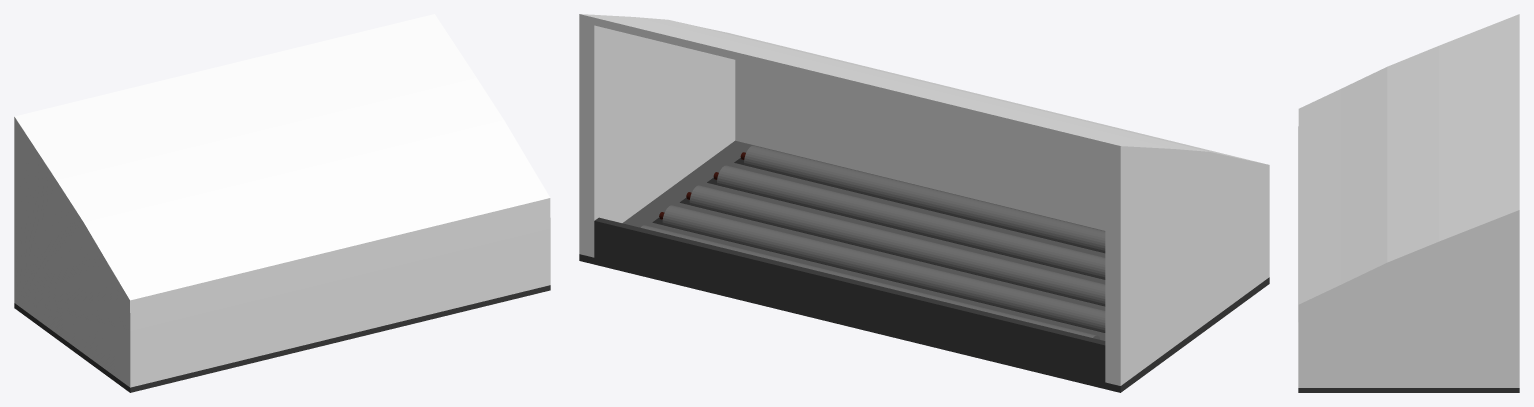
Rendered from Hot Dog Roller.fbx.
3 views of the same model, side by side, from view 1: azimuth 30°, elevation 25°; view 2: azimuth 150°, elevation 25°; view 3: azimuth 270°, elevation 25° (orthographic). The views are drawn at different scales.
Visible parts, largest first — view 1: Hot Dog Roller; view 2: Hot Dog Roller; view 3: Hot Dog Roller.
Part boxes in pixels (x1,y1,x2,y2): Hot Dog Roller: (14,14,550,392); Hot Dog Roller: (579,14,1269,392); Hot Dog Roller: (1298,14,1519,392).
Size of the model in its own units: 136 by 59.39 by 65.03.
Materials: 2 (1 with a texture image).
